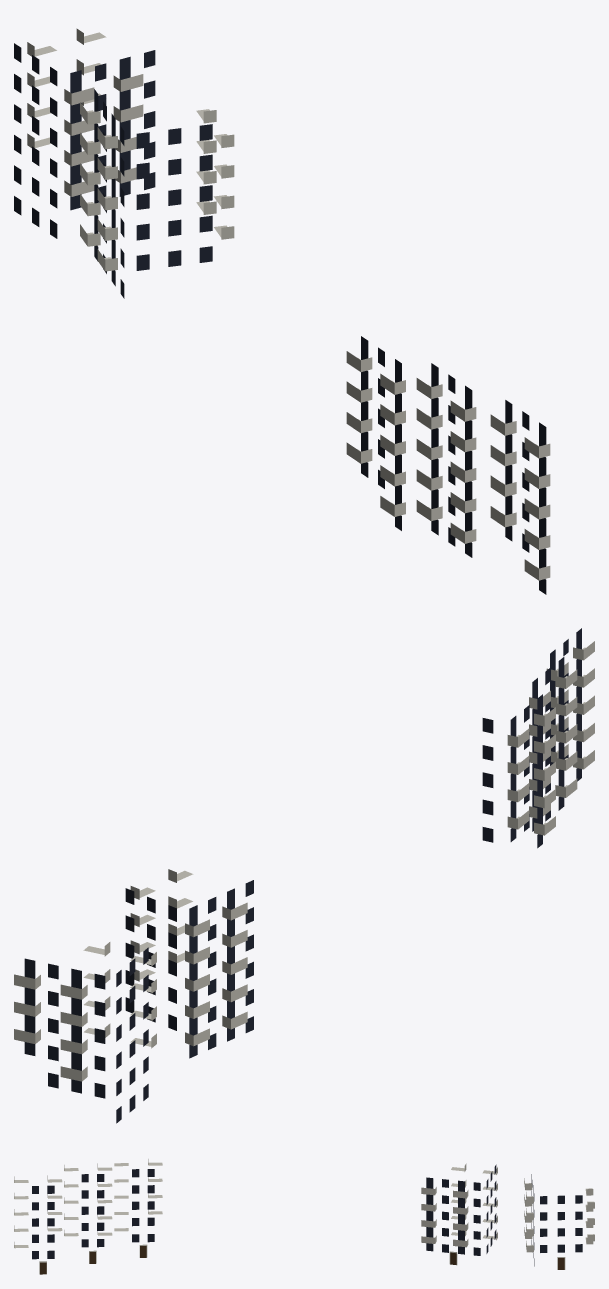
File: facades.glb
The picture shows the model from 3 angles, top to bottom: view 1: azimuth 30°, elevation 25°; view 2: azimuth 150°, elevation 25°; view 3: azimuth 270°, elevation 25°; orthographic projection. The views are drawn at different scales.
Visible parts, largest first — view 1: T_W1_S4_facades; view 2: T_W1_S4_facades; view 3: T_W1_S4_facades.
Part boxes in pixels (x1,y1,x2,y2): T_W1_S4_facades: (14, 28, 550, 594); T_W1_S4_facades: (14, 628, 594, 1123); T_W1_S4_facades: (14, 1159, 594, 1274).
Bounding box in the file's own units: 16.93 × 17.86 × 97.09.
